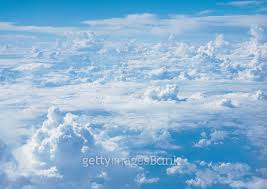sky: (2, 2, 266, 185)
